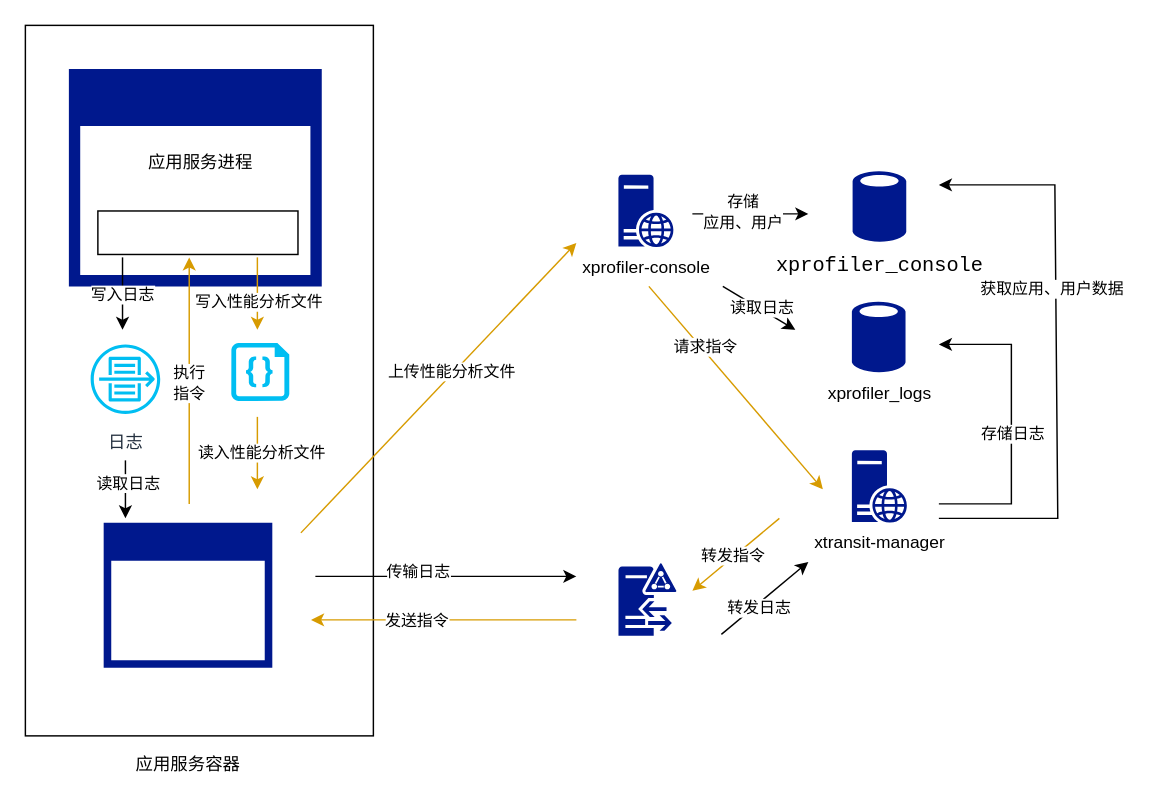
This 1150x812 diagram has some shape labels left out. The shapes that lost their labels are listed below. From the top down, each one's centre as x and y in pixels, then its label:
the point at 197,232: xprofiler
the point at 187,594: xtransit进程
the point at 647,599: xtransit-server
